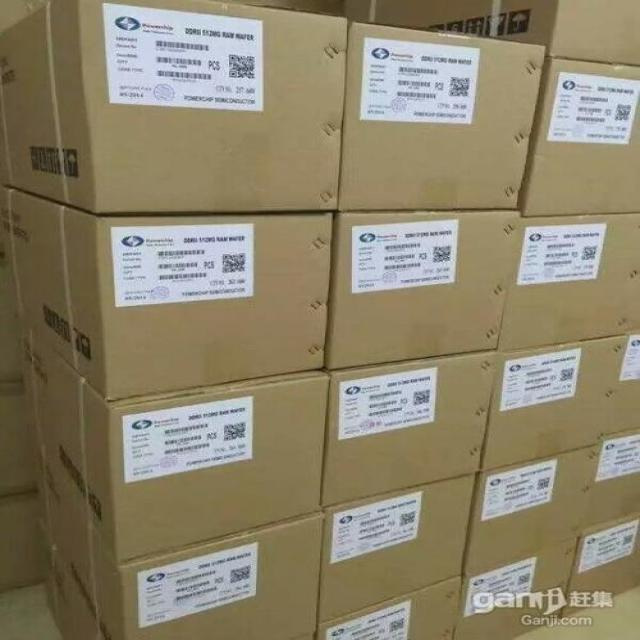box: (23, 324, 330, 563), (1, 184, 333, 401), (36, 465, 324, 639), (338, 20, 547, 211), (324, 212, 524, 371), (321, 349, 499, 508), (317, 473, 477, 624), (483, 334, 631, 471), (497, 214, 640, 353), (518, 58, 640, 218), (461, 442, 604, 577), (346, 0, 640, 65), (454, 535, 579, 640), (316, 575, 463, 640), (563, 512, 640, 619), (581, 427, 640, 532), (607, 332, 640, 435)
